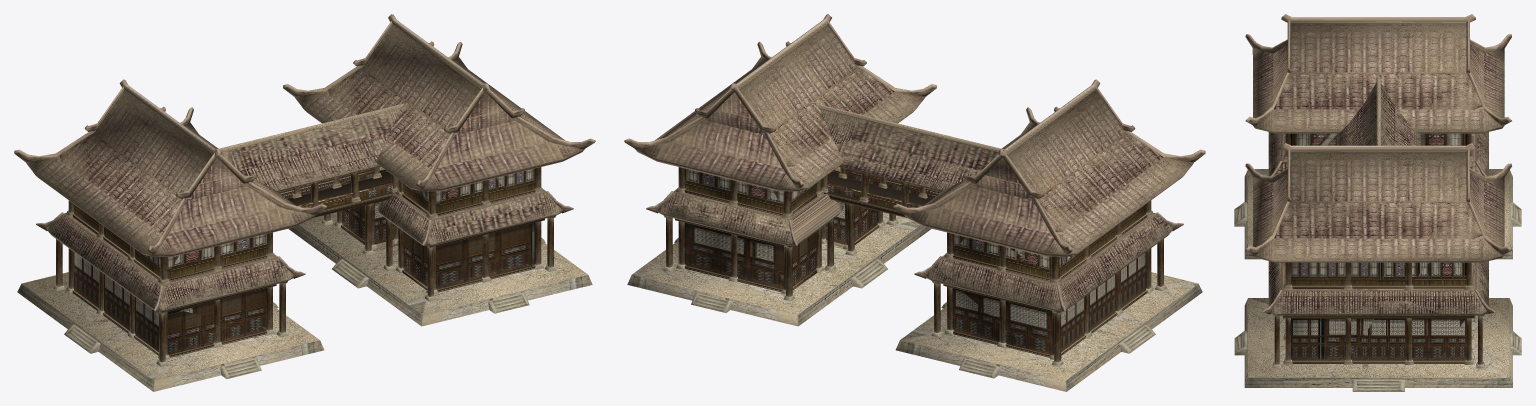
Rendered from desert-009-hotel_lod_01.fbx.
The picture shows the model from 3 angles, left to right: view 1: azimuth 30°, elevation 25°; view 2: azimuth 150°, elevation 25°; view 3: azimuth 270°, elevation 25°; orthographic projection.
Visible parts, largest first — view 1: desert-009-hotel01, desert-009-hotel02, desert-009-hotel03; view 2: desert-009-hotel01, desert-009-hotel02, desert-009-hotel03; view 3: desert-009-hotel01, desert-009-hotel02, desert-009-hotel03.
Part boxes in pixels (x1,y1,x2,y2): desert-009-hotel01: [14, 14, 595, 256]; desert-009-hotel02: [36, 103, 573, 354]; desert-009-hotel03: [17, 167, 592, 391]; desert-009-hotel01: [624, 14, 1205, 256]; desert-009-hotel02: [646, 103, 1183, 354]; desert-009-hotel03: [627, 167, 1202, 391]; desert-009-hotel01: [1245, 14, 1511, 262]; desert-009-hotel02: [1261, 76, 1495, 360]; desert-009-hotel03: [1234, 133, 1521, 391].
Bounding box in the file's own units: 35.89 × 15.6 × 19.9.
